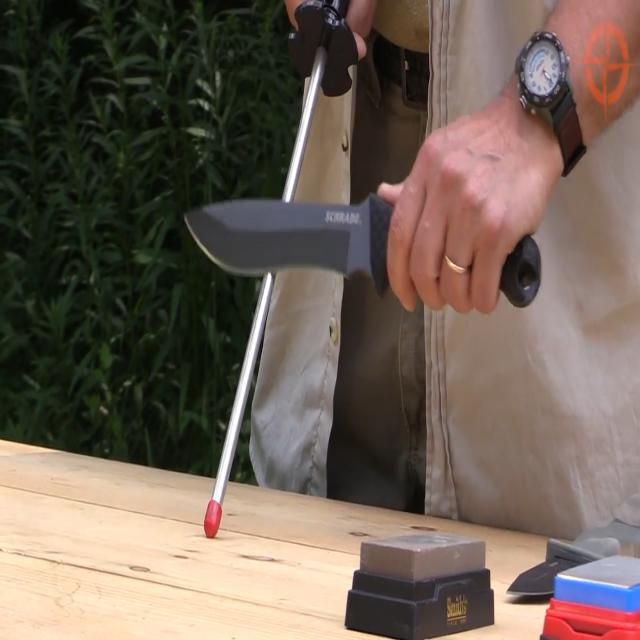knife: (173, 180, 548, 325)
